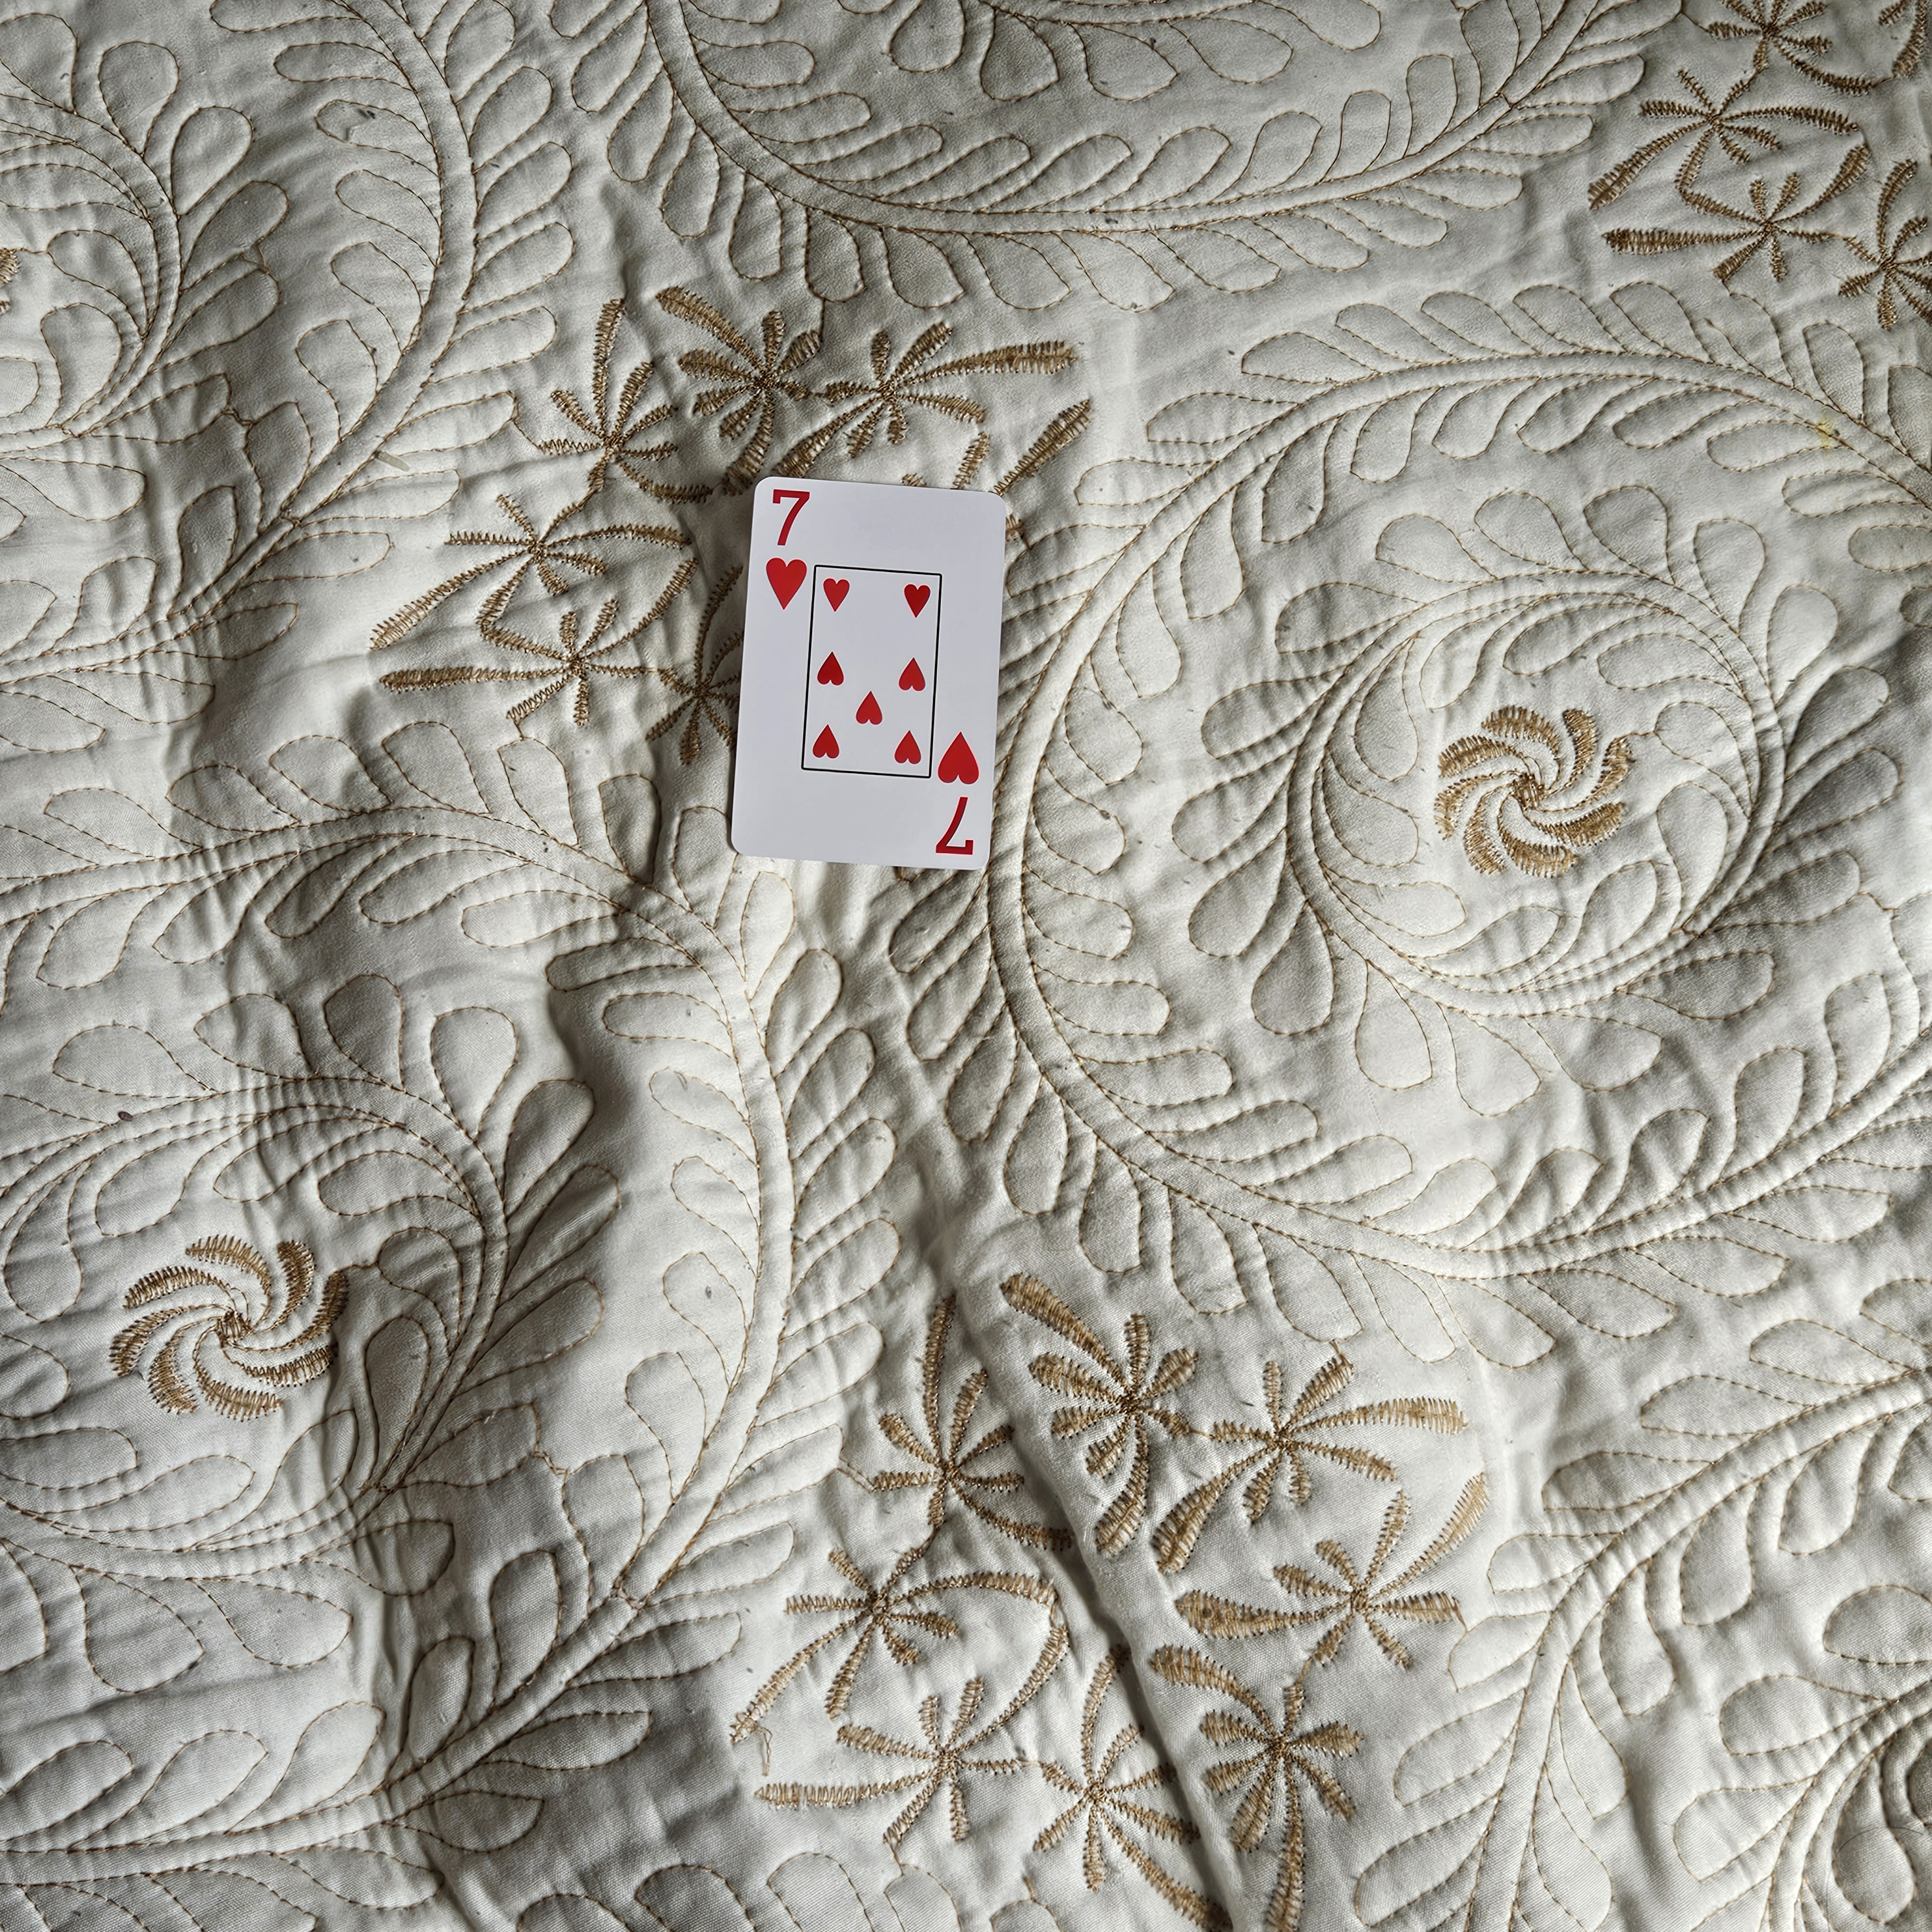7C: (925, 718, 993, 872), (752, 476, 819, 625)
